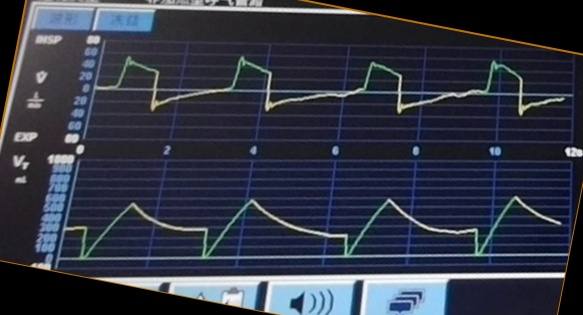Flow: (105, 52, 559, 138)
Leakage Volume: (75, 186, 559, 273)
